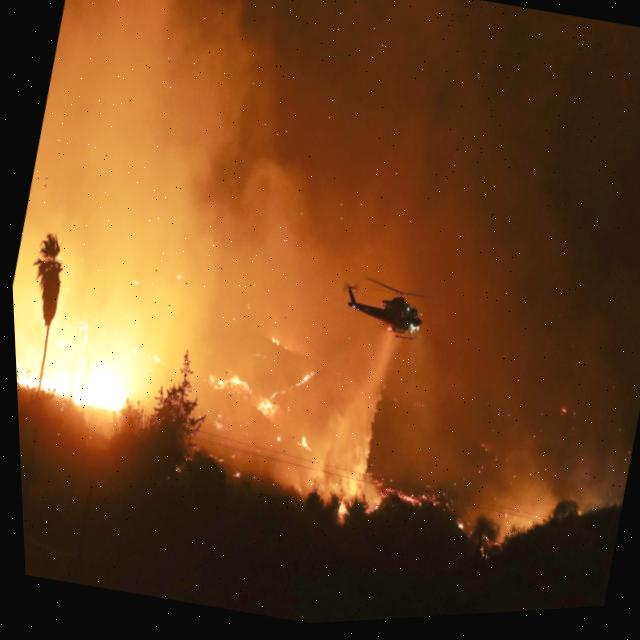fire: (21, 319, 140, 419)
smoke: (10, 0, 640, 568)
